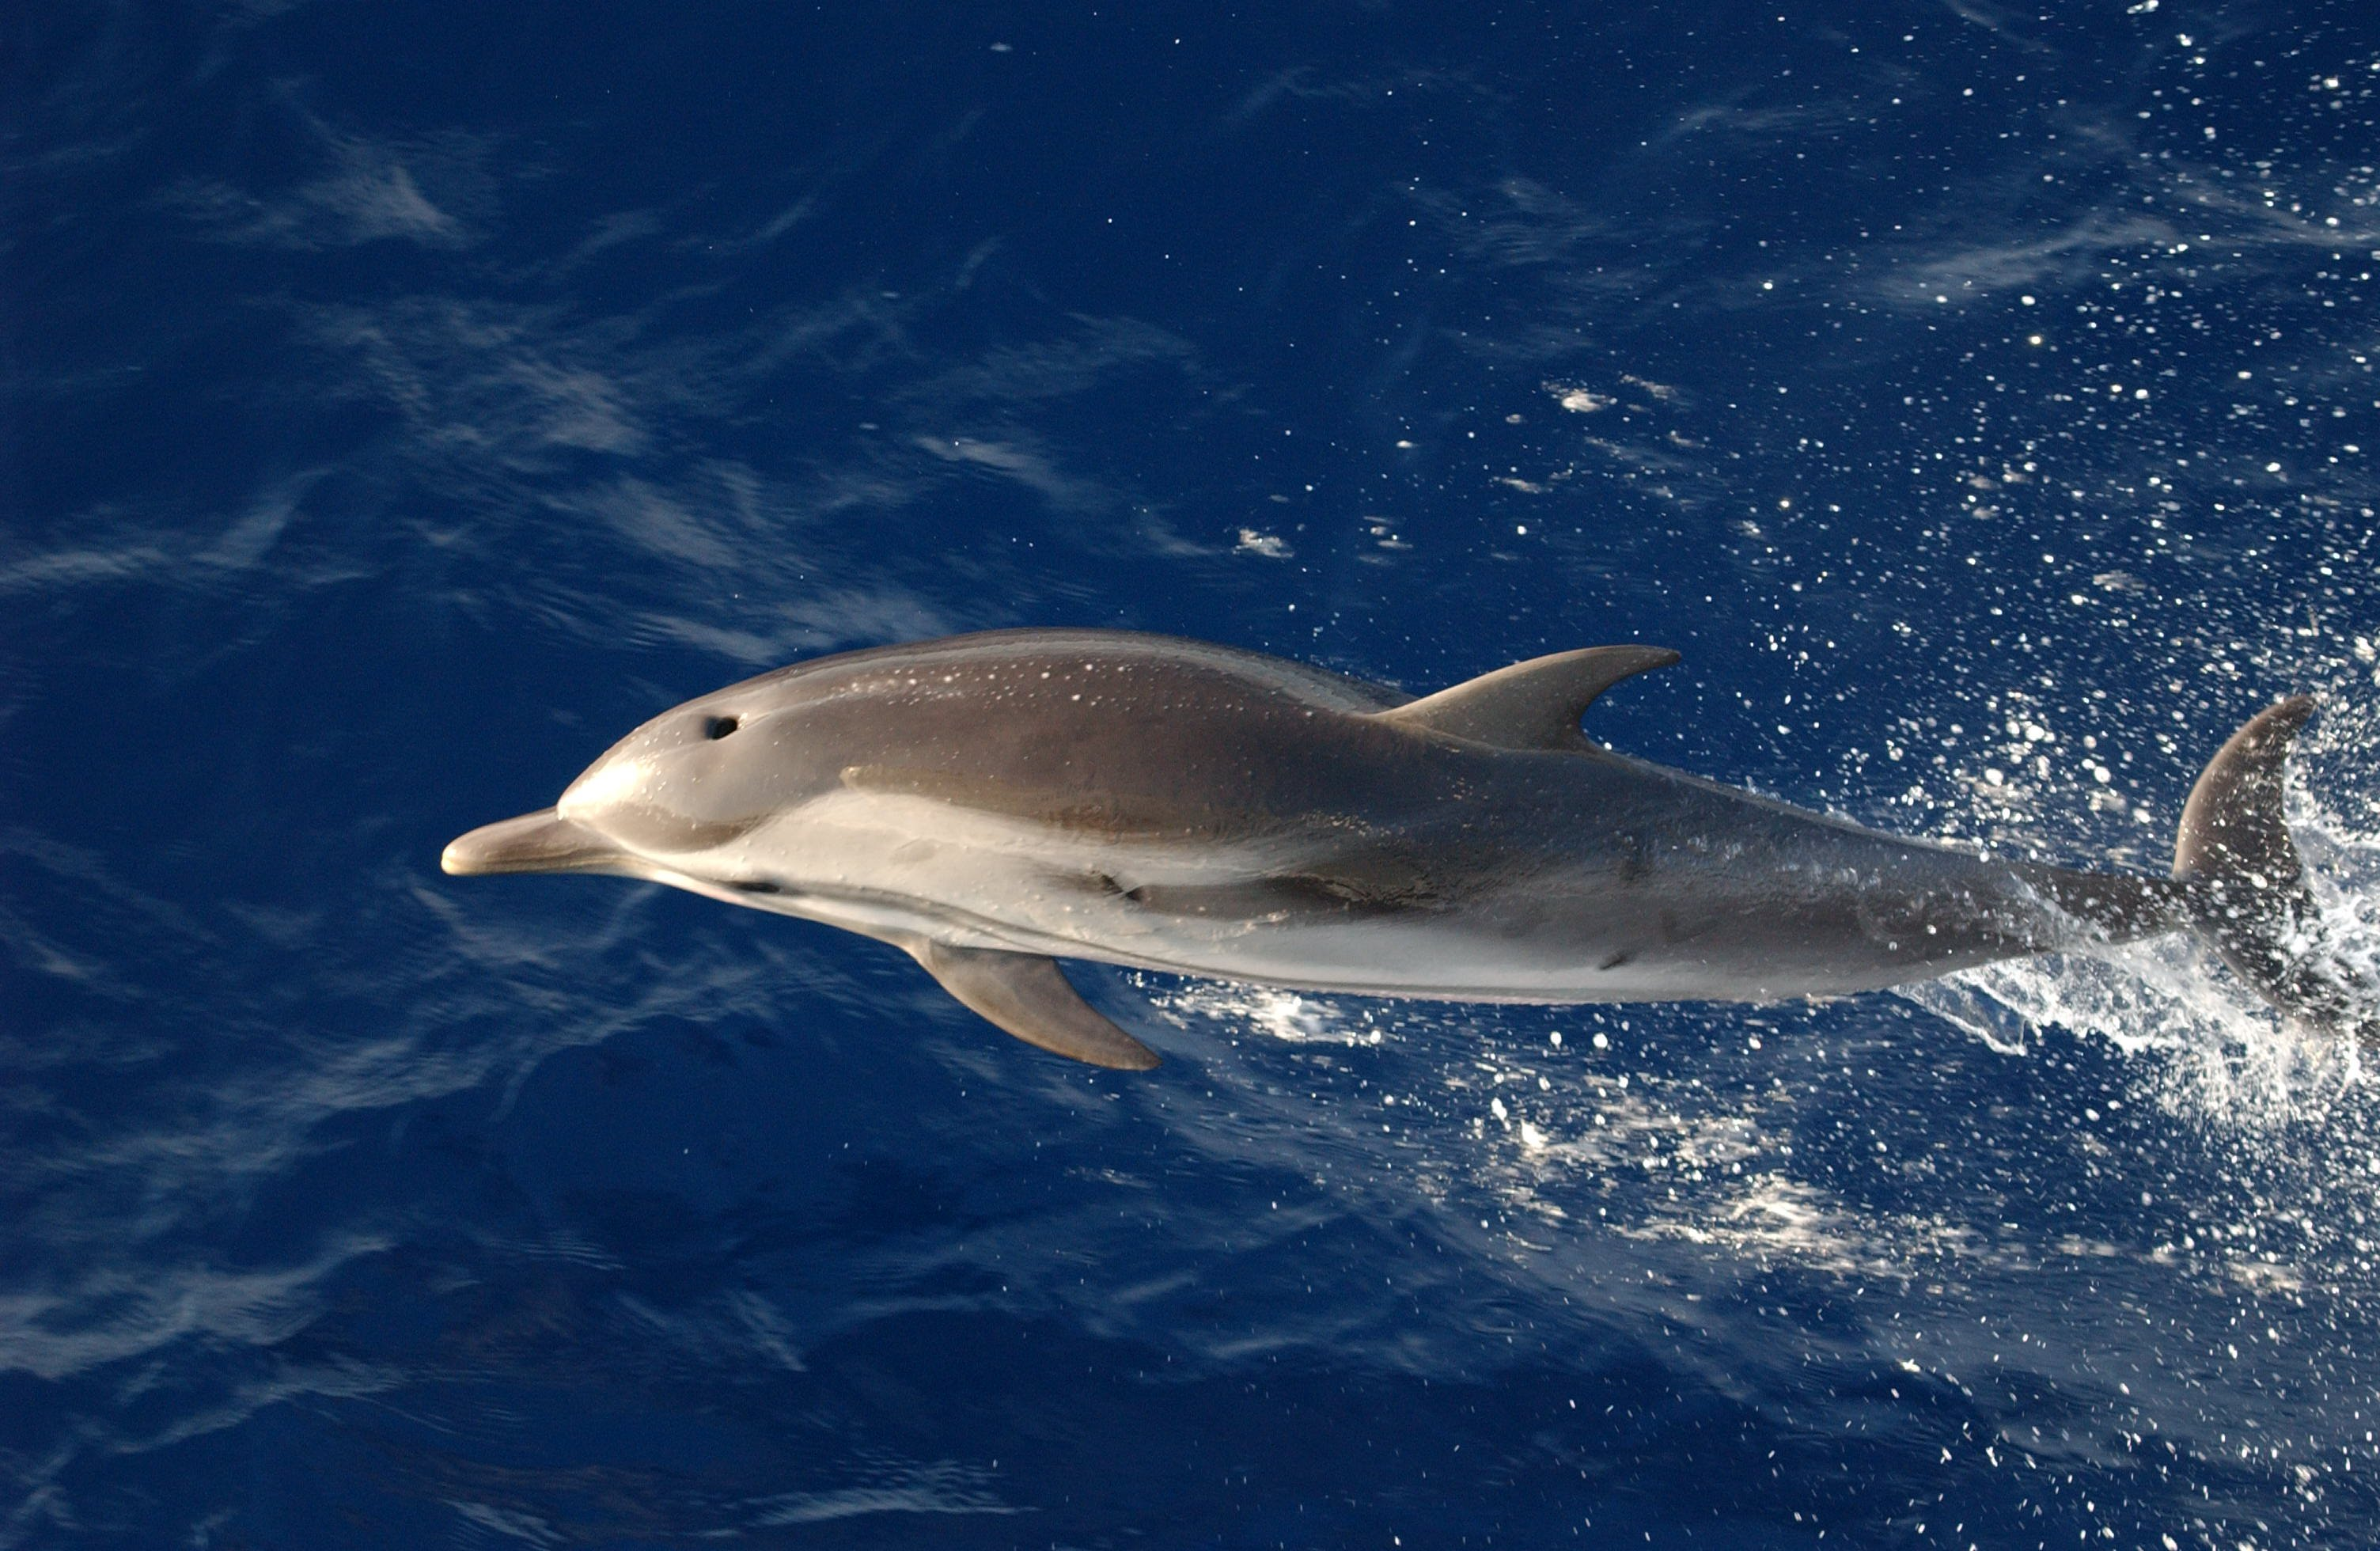dolphin: (442, 574, 2380, 1084)
